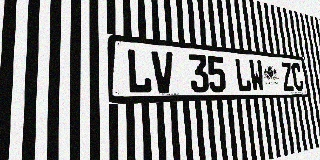3: (188, 54, 210, 93)
5: (207, 55, 227, 92)
C: (291, 63, 304, 91)
L: (126, 48, 152, 94), (234, 58, 252, 92)
V: (151, 51, 175, 93)
W: (248, 59, 265, 92)
Z: (280, 62, 294, 91)
